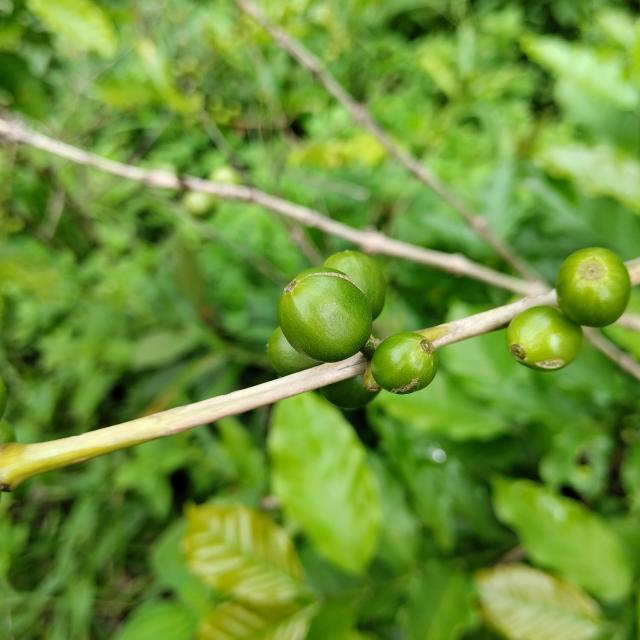green: (278, 267, 373, 362), (557, 247, 632, 327), (506, 306, 584, 372), (324, 251, 386, 320), (371, 332, 438, 394), (267, 327, 322, 377)
